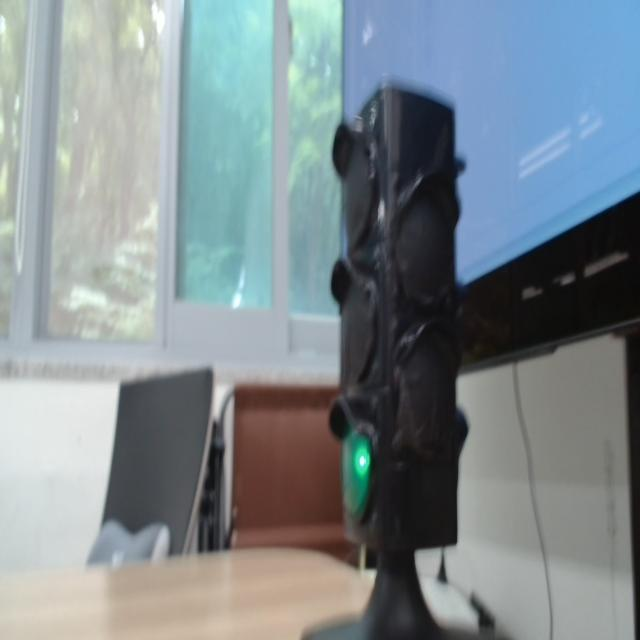green_light: (342, 430, 371, 519)
